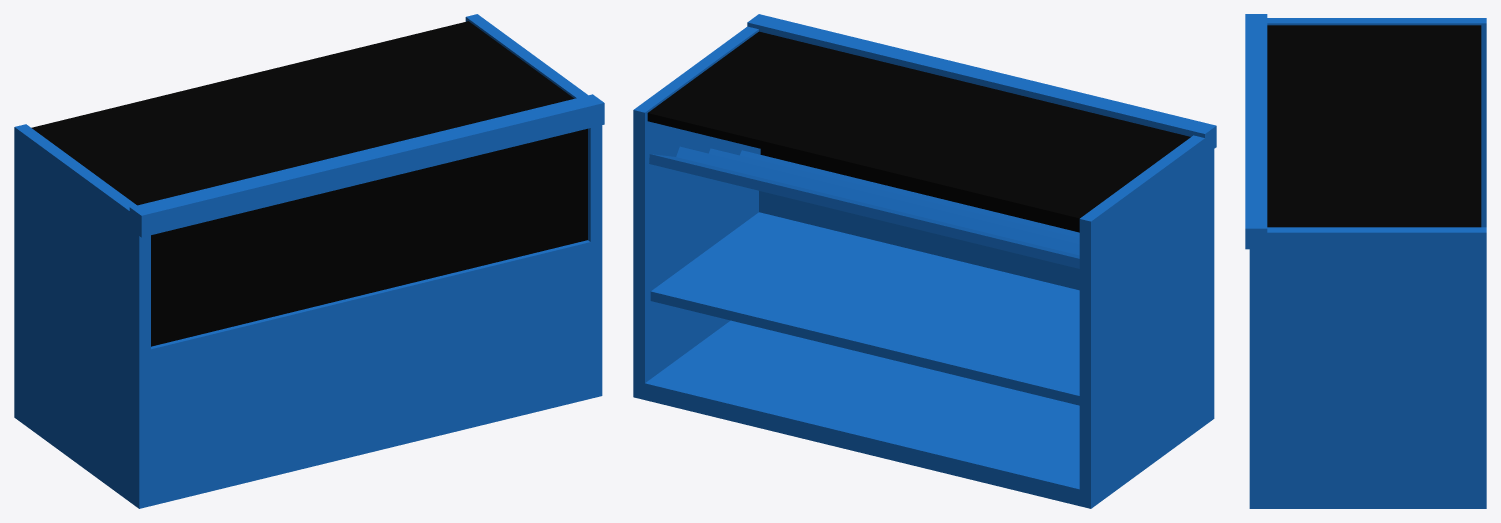
The model's file is SM_showcase_1.fbx.
3 renders of one model, left to right at view 1: azimuth 30°, elevation 25°; view 2: azimuth 150°, elevation 25°; view 3: azimuth 270°, elevation 25°, orthographic. The views are drawn at different scales.
Parts seen in each view (by area): view 1: Cube_18; view 2: Cube_18; view 3: Cube_18.
Boxes of the visible parts, bbox=[...] form: Cube_18: bbox=[14, 14, 604, 508]; Cube_18: bbox=[633, 14, 1216, 508]; Cube_18: bbox=[1245, 14, 1486, 508].
Size of the model in its own units: 150 by 91.27 by 71.27.
